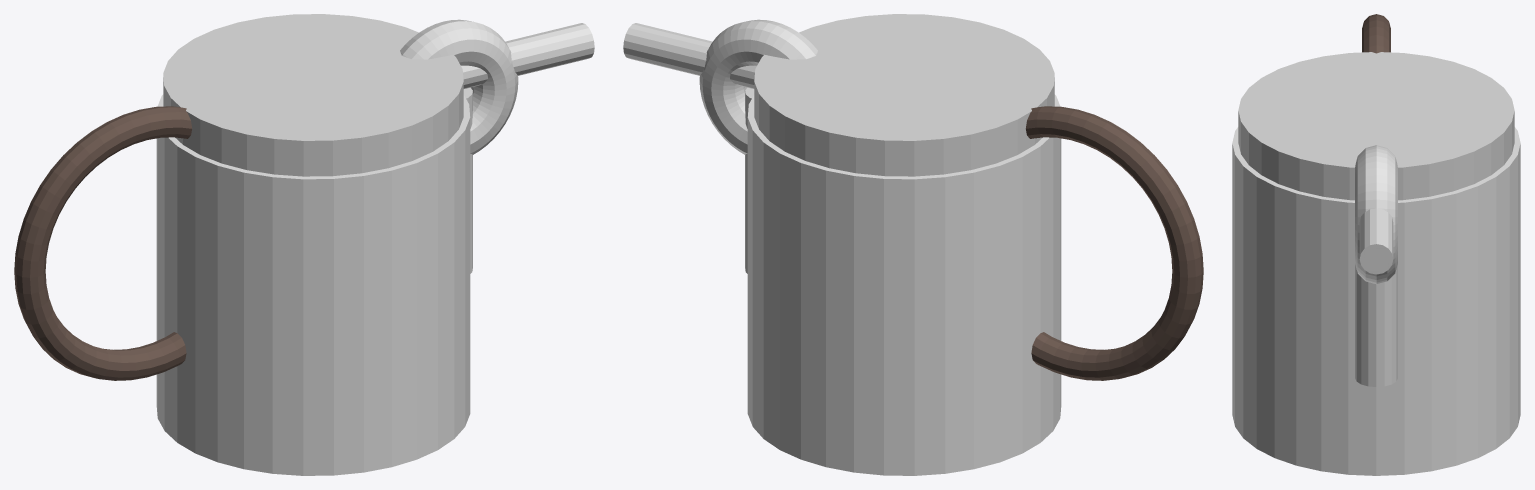
Rendered from kettle.glb.
3 renders of one model, left to right at view 1: azimuth 30°, elevation 25°; view 2: azimuth 150°, elevation 25°; view 3: azimuth 270°, elevation 25°, orthographic. The views are drawn at different scales.
Parts seen in each view (by area): view 1: Kettle_Body, Kettle_Lid, Kettle_Handle, Kettle_SpoutBend, Kettle_Nozzle; view 2: Kettle_Body, Kettle_Lid, Kettle_Handle, Kettle_SpoutBend, Kettle_Nozzle; view 3: Kettle_Body, Kettle_Lid, Kettle_SpoutRiser, Kettle_SpoutBend, Kettle_Nozzle, Kettle_Handle.
Part boxes in pixels (left/top/right/bottom): Kettle_Body: left=156, top=94, right=470, bottom=475; Kettle_Lid: left=163, top=14, right=463, bottom=176; Kettle_Handle: left=14, top=106, right=192, bottom=380; Kettle_SpoutBend: left=400, top=19, right=518, bottom=154; Kettle_Nozzle: left=461, top=23, right=594, bottom=88; Kettle_Body: left=747, top=94, right=1061, bottom=475; Kettle_Lid: left=754, top=14, right=1054, bottom=176; Kettle_Handle: left=1025, top=106, right=1203, bottom=380; Kettle_SpoutBend: left=699, top=19, right=817, bottom=154; Kettle_Nozzle: left=623, top=23, right=756, bottom=88; Kettle_Body: left=1232, top=127, right=1520, bottom=475; Kettle_Lid: left=1238, top=52, right=1514, bottom=200; Kettle_SpoutRiser: left=1355, top=264, right=1397, bottom=386; Kettle_SpoutBend: left=1355, top=145, right=1397, bottom=284; Kettle_Nozzle: left=1359, top=208, right=1393, bottom=274; Kettle_Handle: left=1362, top=14, right=1390, bottom=53.
Bounding box in the file's own units: 0.502 × 0.298 × 0.24.
